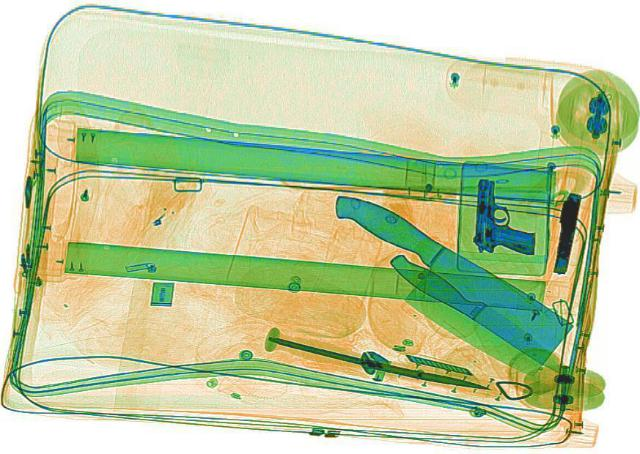Gun: (470, 176, 540, 254), (548, 190, 584, 272)
Knife: (286, 181, 594, 380), (379, 246, 577, 377), (266, 333, 492, 394)
